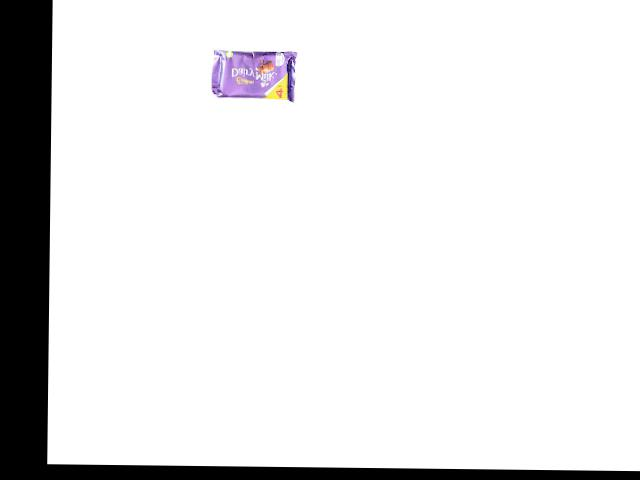chocolate: (208, 43, 307, 101)
